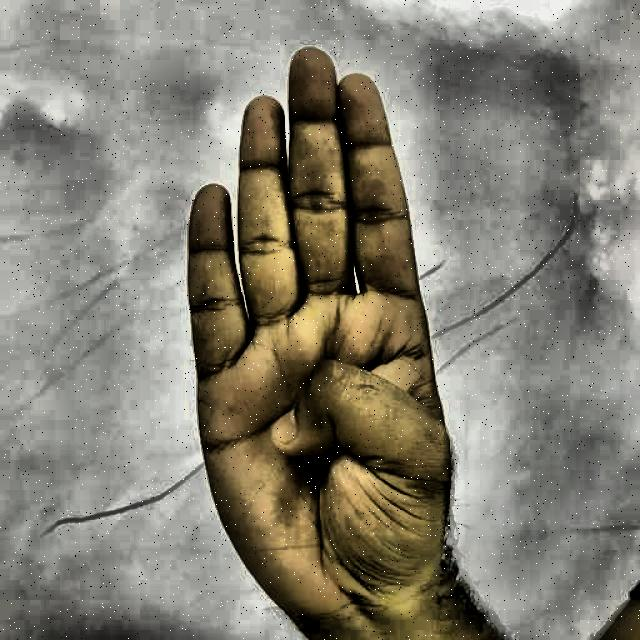Ba: (146, 30, 512, 640)
